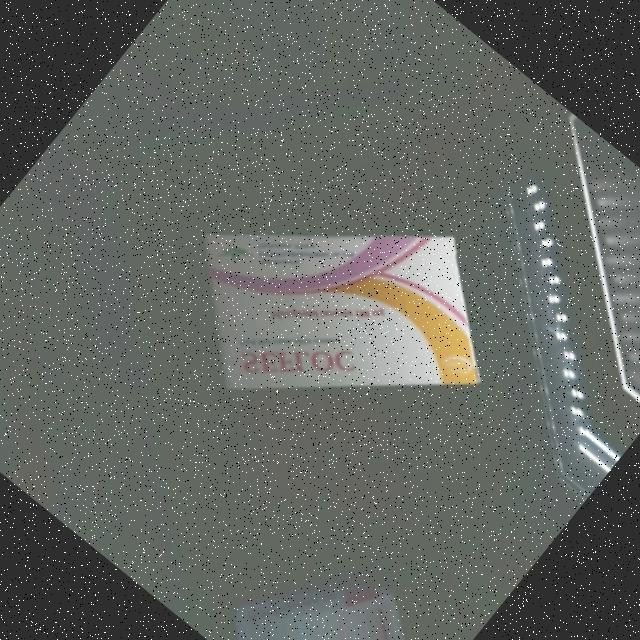medicine_name_detection: (142, 115, 543, 510)
